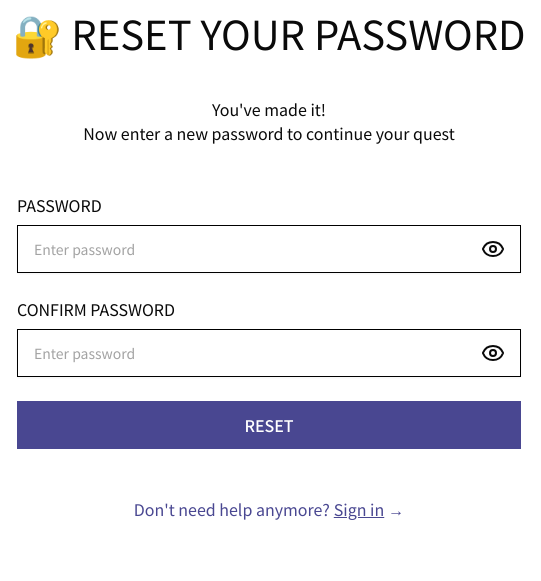
Test: ResetPassword Page › Edge Cases › handles network errors gracefully
Type "password123" into the password field labelled "Password" at coordinates (269, 249), box [17,225,521,273]
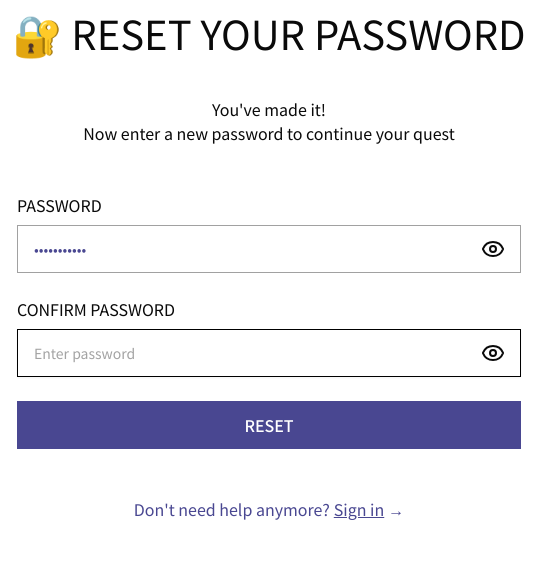
Type "password123" into the password field labelled "Confirm Password" at coordinates (269, 353), box [17,329,521,377]
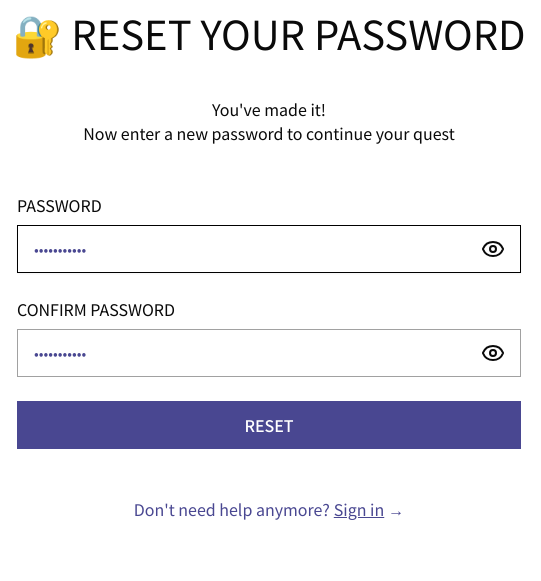
Click the button "RESET" at coordinates (269, 425), box [17,401,521,449]
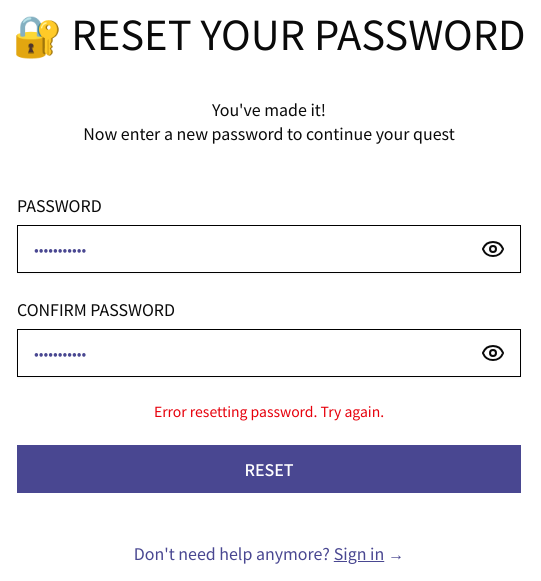
Check: the text "Error resetting password. Try again." is shown, box [154,401,384,421]
